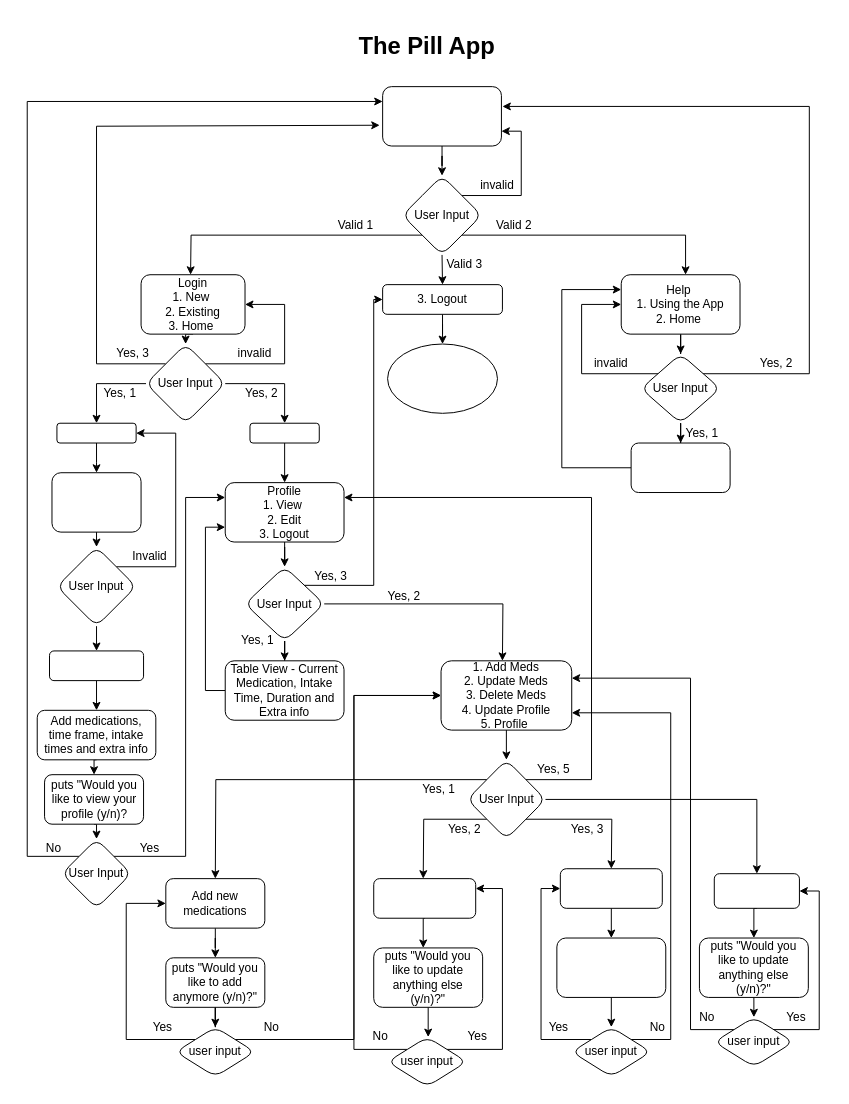
The diagram is 849 pixels wide and 1104 high, and some of its shapes have lost their labels. The box of each missing label's shape, as (x1, y1, x2, y2) in pixels:
"Have a nice day" Exit App: (387, 343, 497, 413)
Create Profile: (49, 650, 144, 681)
Create username and password: (51, 472, 141, 532)
Delete medication: (559, 868, 662, 908)
Details on how to use the app: (630, 442, 730, 493)
Existing: (249, 422, 319, 443)
Home Screen 1 Login 2 Help 3 Logout: (382, 86, 501, 146)
New: (56, 422, 136, 443)
puts "Would you like to delete anythign else (y/n)?": (556, 937, 666, 997)
Update medications: (373, 878, 476, 918)
Update profile: (713, 873, 799, 908)
